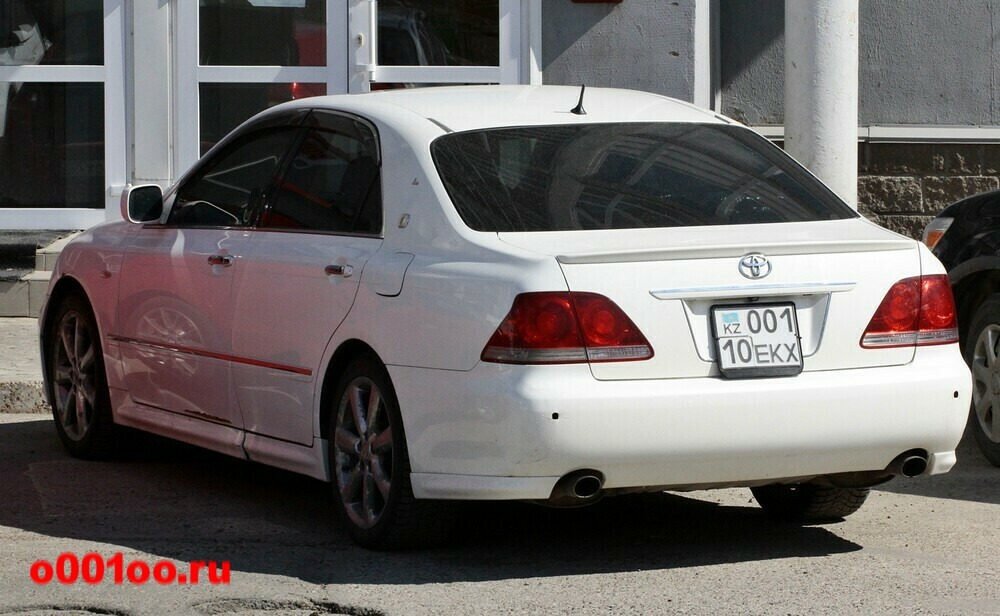license_plate: (710, 305, 808, 368)
